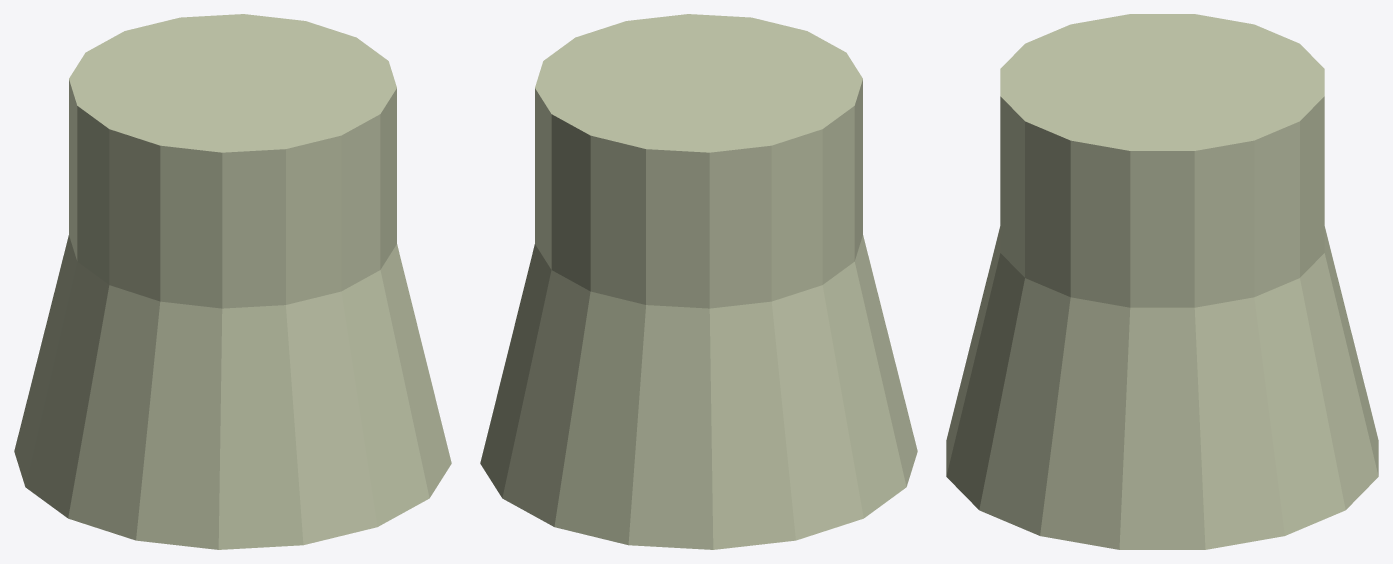
File: chara_lv_engine_s0p5_1_collider.obj
3 renders of one model, left to right at view 1: azimuth 30°, elevation 25°; view 2: azimuth 150°, elevation 25°; view 3: azimuth 270°, elevation 25°, orthographic.
Parts seen in each view (by area): view 1: chara_lv_engine_s0p5_1_collider2, chara_lv_engine_s0p5_1_collider1; view 2: chara_lv_engine_s0p5_1_collider2, chara_lv_engine_s0p5_1_collider1; view 3: chara_lv_engine_s0p5_1_collider2, chara_lv_engine_s0p5_1_collider1.
Part boxes in pixels (left/top/right/bottom): chara_lv_engine_s0p5_1_collider2: left=14, top=235, right=451, bottom=549; chara_lv_engine_s0p5_1_collider1: left=69, top=14, right=396, bottom=308; chara_lv_engine_s0p5_1_collider2: left=480, top=235, right=917, bottom=549; chara_lv_engine_s0p5_1_collider1: left=535, top=14, right=862, bottom=308; chara_lv_engine_s0p5_1_collider2: left=946, top=226, right=1378, bottom=549; chara_lv_engine_s0p5_1_collider1: left=1000, top=14, right=1324, bottom=307.
Size of the model in its own units: 1.25 by 1.25 by 1.25.
